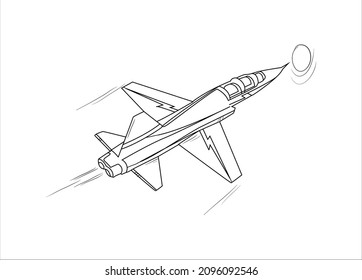airplane: (92, 60, 289, 192)
